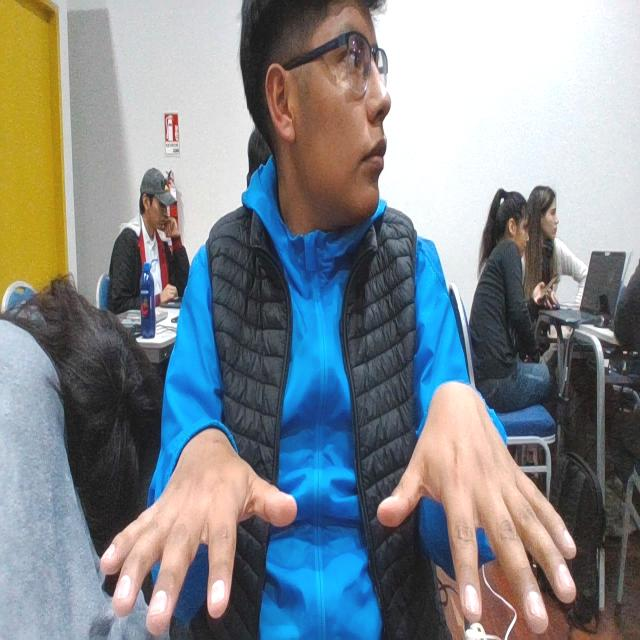calm: (91, 396, 585, 640)
